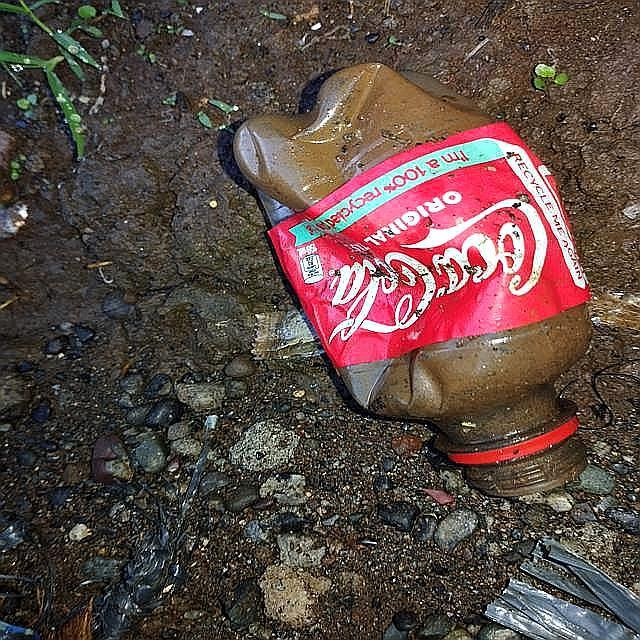Non-biodegradable: (231, 57, 605, 511)
